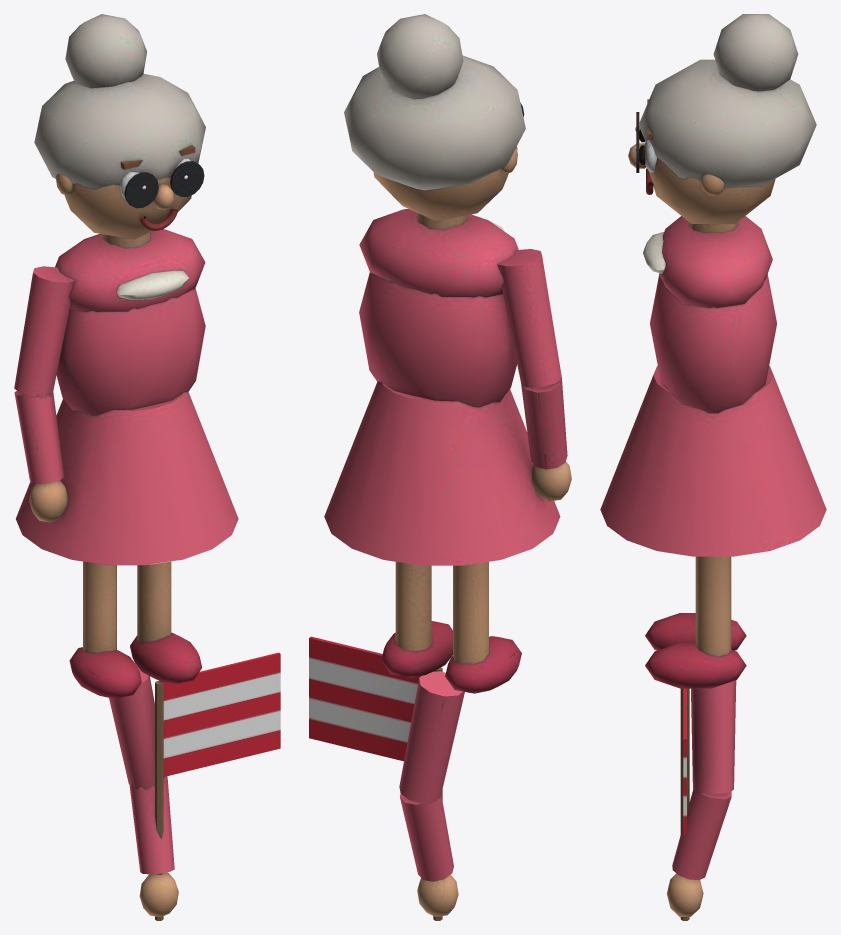
File: senora.glb
The picture shows the model from 3 angles, left to right: view 1: azimuth 30°, elevation 25°; view 2: azimuth 150°, elevation 25°; view 3: azimuth 270°, elevation 25°; orthographic projection. The views are drawn at different scales.
Visible parts, largest first — view 1: senora_cuerpo, senora_brazo; view 2: senora_cuerpo, senora_brazo; view 3: senora_cuerpo, senora_brazo.
Boxes of the visible parts, box(x1,y1,x2,y2) form: senora_cuerpo: box(14, 14, 238, 698); senora_brazo: box(109, 652, 280, 920); senora_cuerpo: box(324, 14, 571, 693); senora_brazo: box(309, 636, 464, 920); senora_cuerpo: box(600, 14, 826, 688); senora_brazo: box(667, 680, 736, 920).
Bounding box in the file's own units: 0.7929 × 2.68 × 0.6144.
2 materials, 2 textured.
